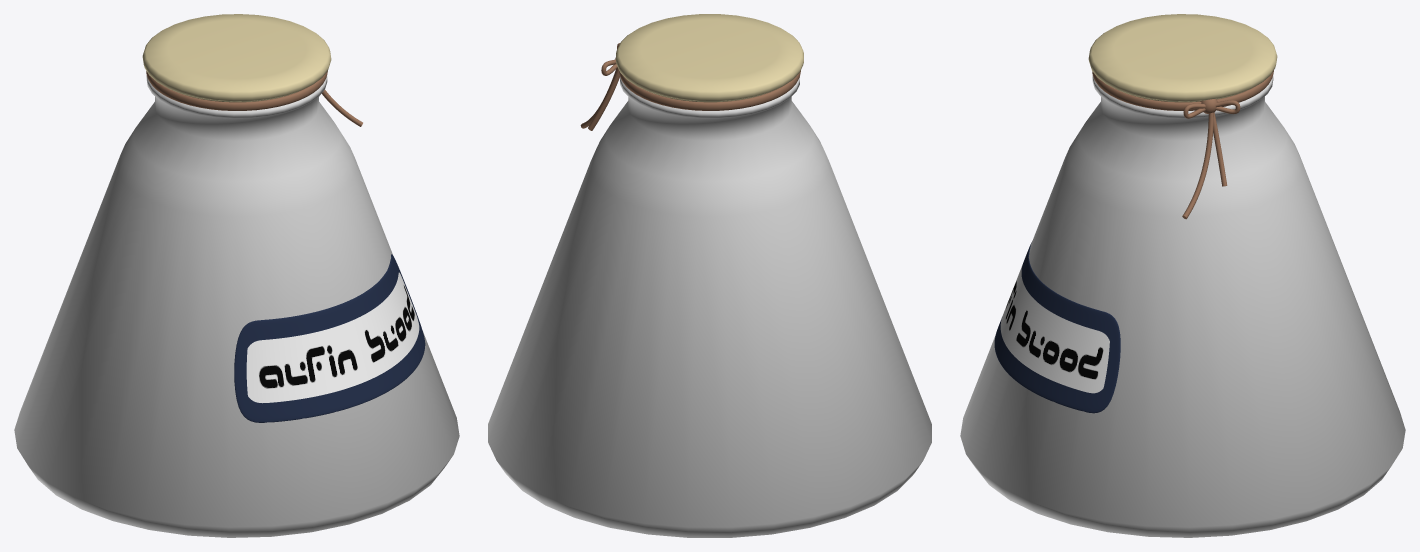
The model's file is tomato sauce.fbx.
3 views of the same model, side by side, from view 1: azimuth 30°, elevation 25°; view 2: azimuth 150°, elevation 25°; view 3: azimuth 270°, elevation 25° (orthographic).
Visible parts, largest first — view 1: tomato sauce, label.003, Cylinder.004, rope.003; view 2: tomato sauce, Cylinder.004, rope.003; view 3: tomato sauce, Cylinder.004, label.003, rope.003.
Part boxes in pixels (x1,y1,x2,y2): tomato sauce: [14, 75, 459, 537]; label.003: [234, 254, 425, 422]; Cylinder.004: [142, 14, 331, 102]; rope.003: [146, 71, 362, 126]; tomato sauce: [488, 77, 931, 537]; Cylinder.004: [616, 14, 803, 102]; rope.003: [580, 43, 800, 130]; tomato sauce: [960, 75, 1405, 537]; Cylinder.004: [1088, 14, 1277, 102]; label.003: [994, 242, 1120, 413]; rope.003: [1092, 70, 1273, 219].
Bounding box in the file's own units: 91.06 × 90.89 × 91.06.
